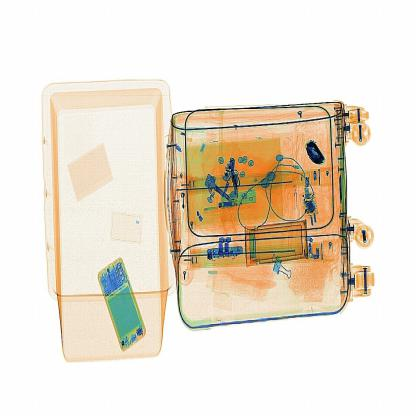scissors: (307, 138, 331, 171)
